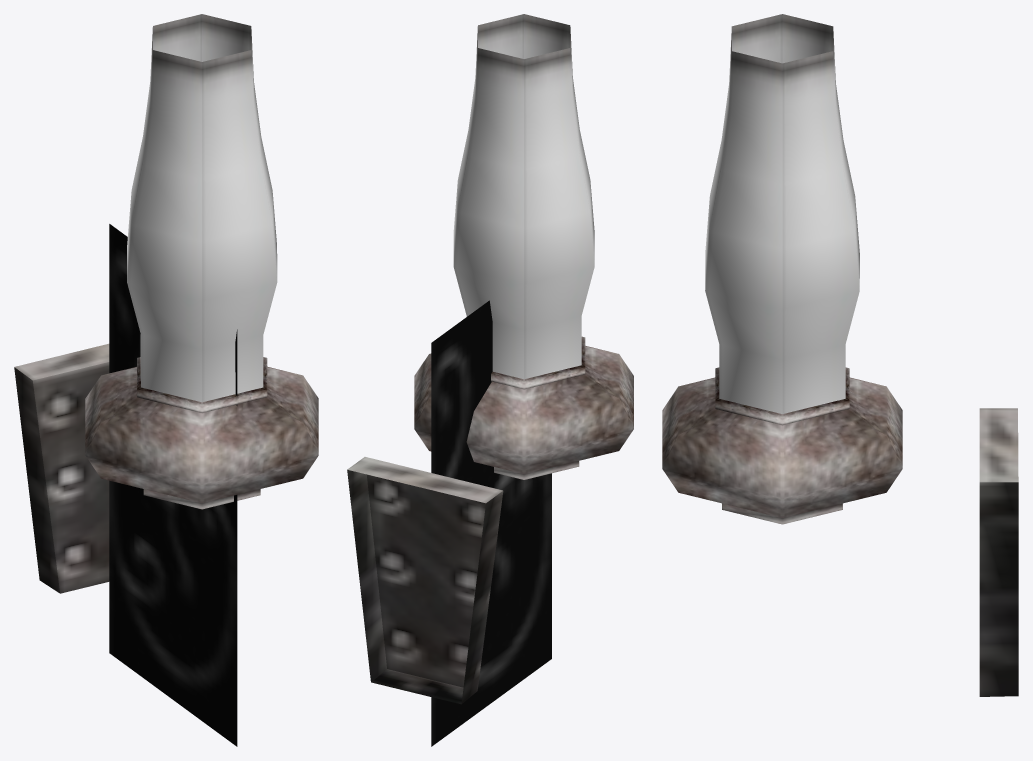
File: lamp_wall_hurricane_oil.fbx
The picture shows the model from 3 angles, left to right: view 1: azimuth 30°, elevation 25°; view 2: azimuth 150°, elevation 25°; view 3: azimuth 270°, elevation 25°; orthographic projection. The views are drawn at different scales.
Visible parts, largest first — view 1: lamp_glass, hurricaneLampWallSupport1, lamp_base, hurricaneLampWallBase, lamp_glass1; view 2: lamp_glass, hurricaneLampWallBase, hurricaneLampWallSupport1, lamp_base, lamp_glass1; view 3: lamp_glass, lamp_base, hurricaneLampWallBase, lamp_glass1.
Part boxes in pixels (x1,y1,x2,y2): lamp_glass: (127,27,277,402); hurricaneLampWallSupport1: (109,224,237,746); lamp_base: (85,357,318,509); hurricaneLampWallBase: (14,343,109,593); lamp_glass1: (153,14,251,61); lamp_glass: (453,26,594,379); hurricaneLampWallBase: (347,457,503,704); hurricaneLampWallSupport1: (431,300,551,746); lamp_base: (414,336,633,479); lamp_glass1: (478,14,570,58); lamp_glass: (705,31,859,413); lamp_base: (662,367,902,524); hurricaneLampWallBase: (979,408,1018,696); lamp_glass1: (731,14,833,63).
Size of the model in its own units: 94.23 by 265 by 121.
Materials: 2 (2 with a texture image).
